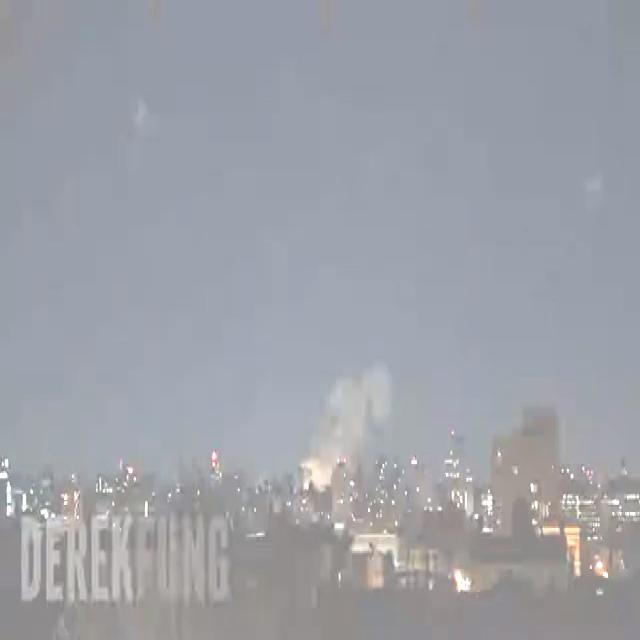smoke: (300, 363, 393, 487)
